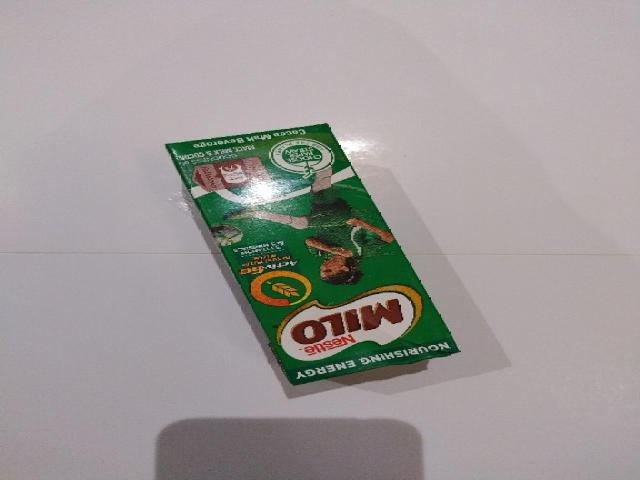drink_box: (167, 124, 458, 384)
